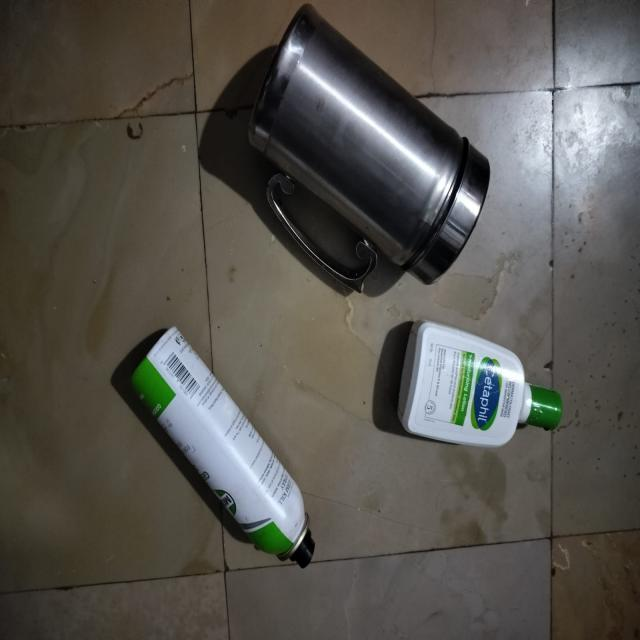metal: (234, 0, 473, 283)
plastic: (110, 319, 325, 586), (398, 304, 570, 459)
